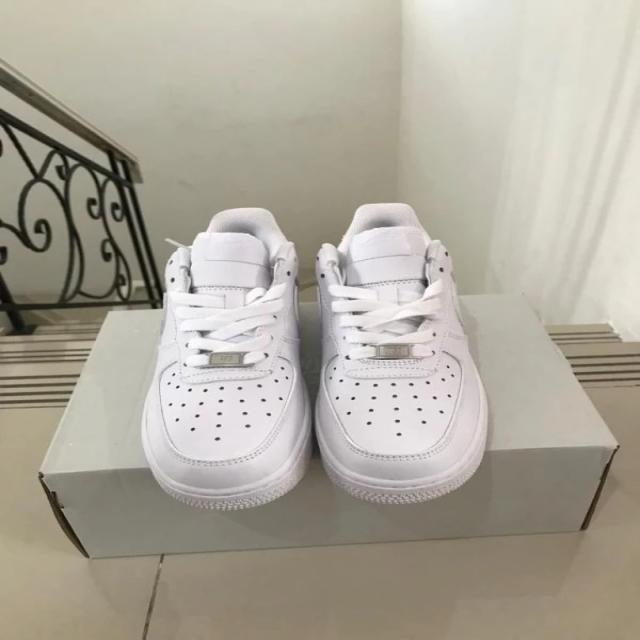nike original air force: (314, 198, 494, 502), (142, 200, 308, 507)
